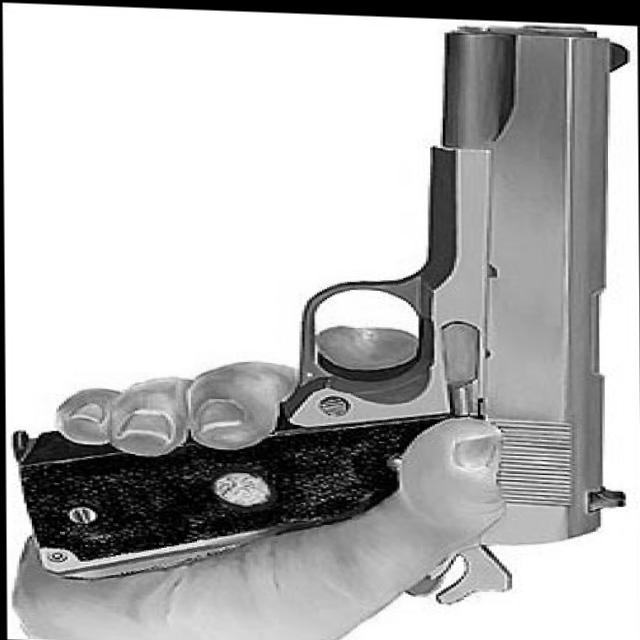handgun: (16, 8, 636, 608)
